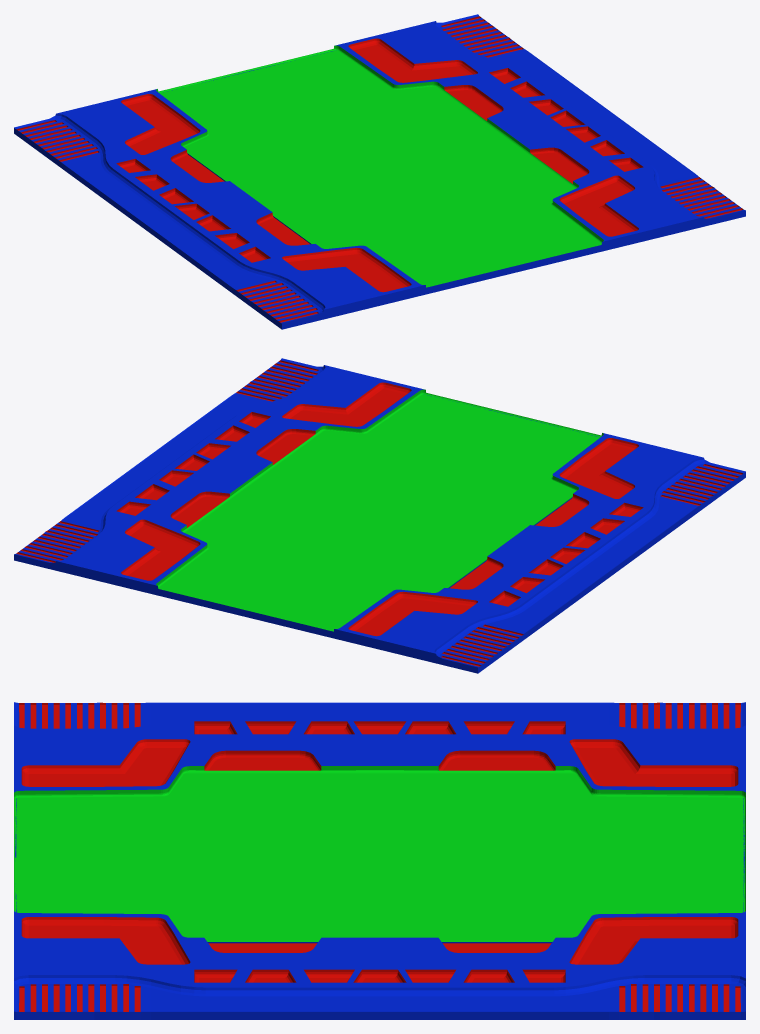
Rendered from Floor.fbx.
The picture shows the model from 3 angles, top to bottom: view 1: azimuth 30°, elevation 25°; view 2: azimuth 150°, elevation 25°; view 3: azimuth 270°, elevation 25°; orthographic projection. The views are drawn at different scales.
Parts seen in each view (by area): view 1: Floor_low; view 2: Floor_low; view 3: Floor_low.
Boxes of the visible parts, x1,y1,x2,y2 form: Floor_low: [14, 14, 745, 329]; Floor_low: [14, 358, 745, 673]; Floor_low: [14, 702, 745, 1019].
Size of the model in its own units: 1000 by 20 by 1000.
